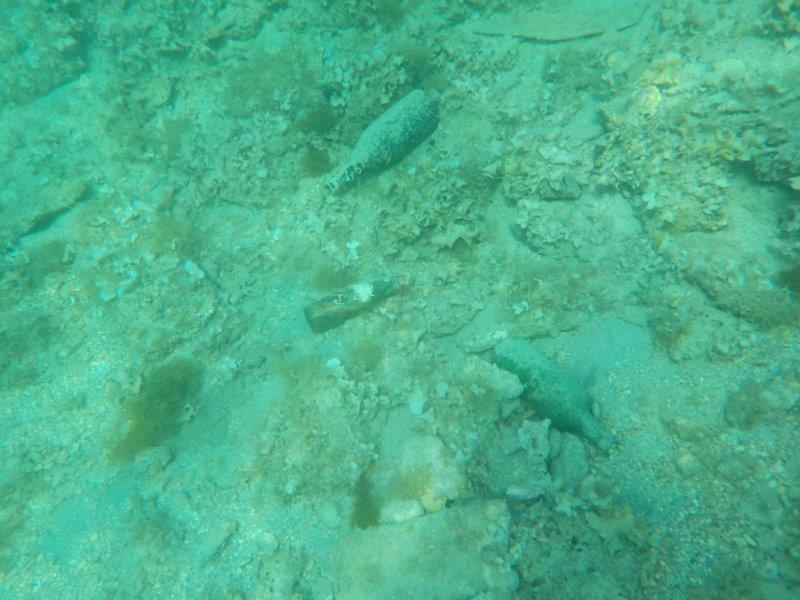bottle: (491, 334, 620, 456), (320, 88, 441, 201), (301, 272, 417, 335)
